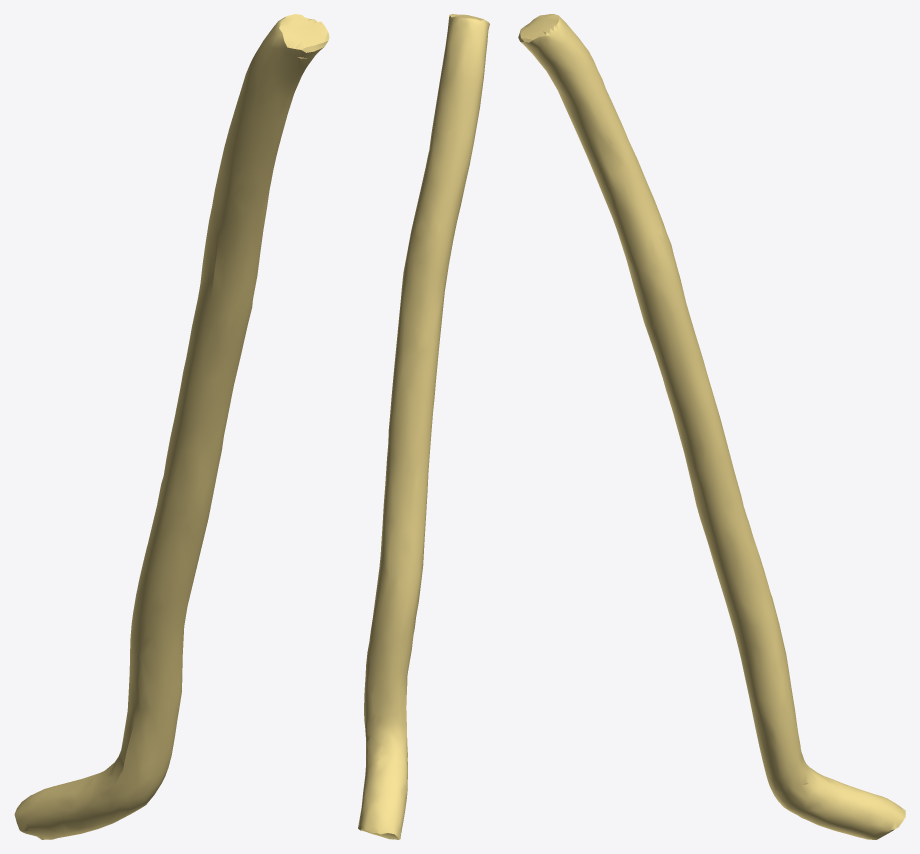
The model's file is fma73877-n_mm2686m.glb.
The picture shows the model from 3 angles, left to right: view 1: azimuth 30°, elevation 25°; view 2: azimuth 150°, elevation 25°; view 3: azimuth 270°, elevation 25°; orthographic projection. The views are drawn at different scales.
Parts seen in each view (by area): view 1: FMA73877-N_MM2686M; view 2: FMA73877-N_MM2686M; view 3: FMA73877-N_MM2686M.
Part boxes in pixels (box(x1,y1,x2,y2)): FMA73877-N_MM2686M: box(14, 14, 329, 839); FMA73877-N_MM2686M: box(358, 14, 489, 839); FMA73877-N_MM2686M: box(518, 14, 905, 839).
Bounding box in the file's own units: 0.00329 × 0.0246 × 0.0102.
